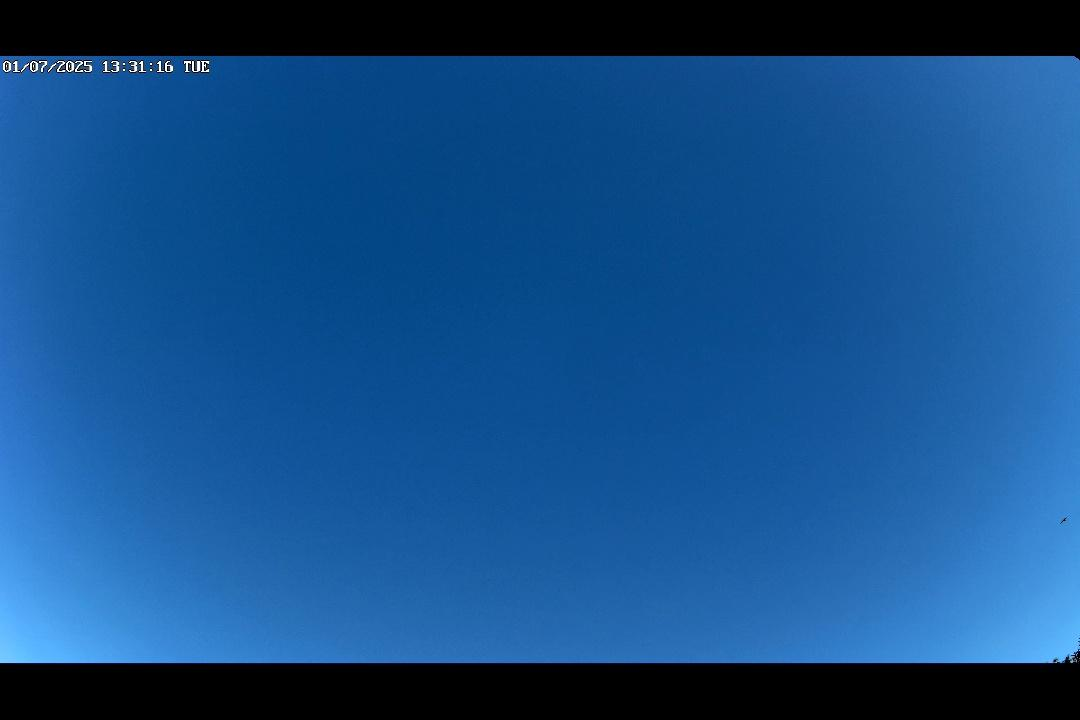WildLife: (1046, 512, 1079, 527)
